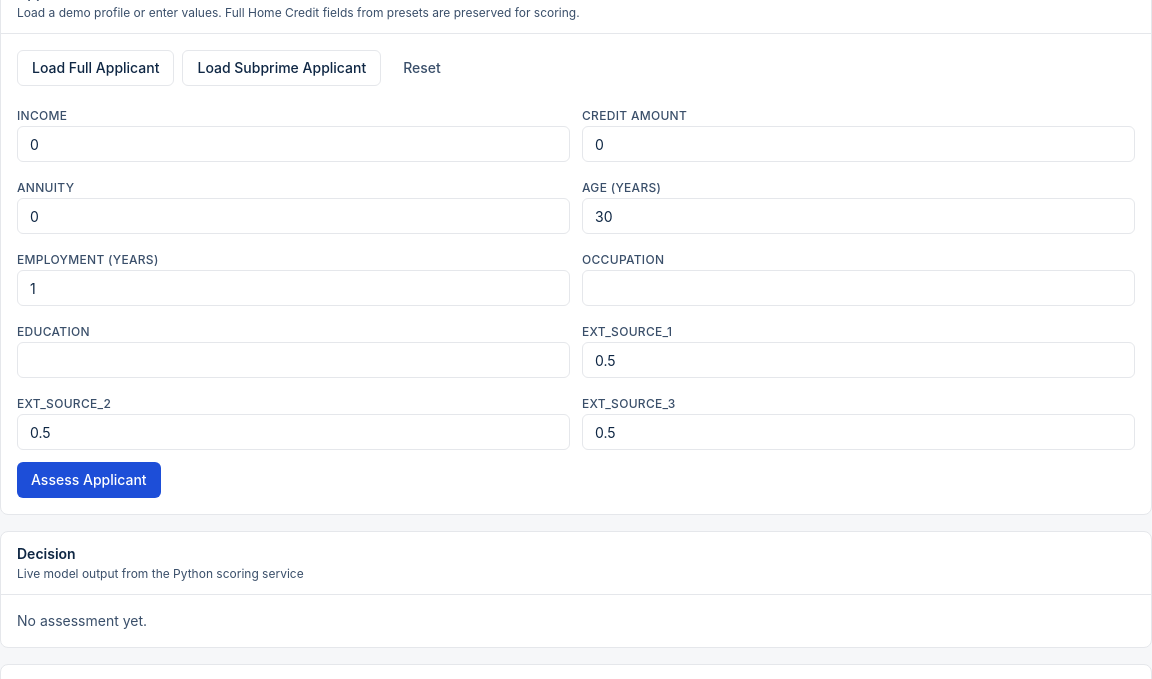
Test case: UnderwritingPage › shows scoring result after assessment
Click the button "Load Full Applicant". click: (96, 68)
box: [17,50,174,86]
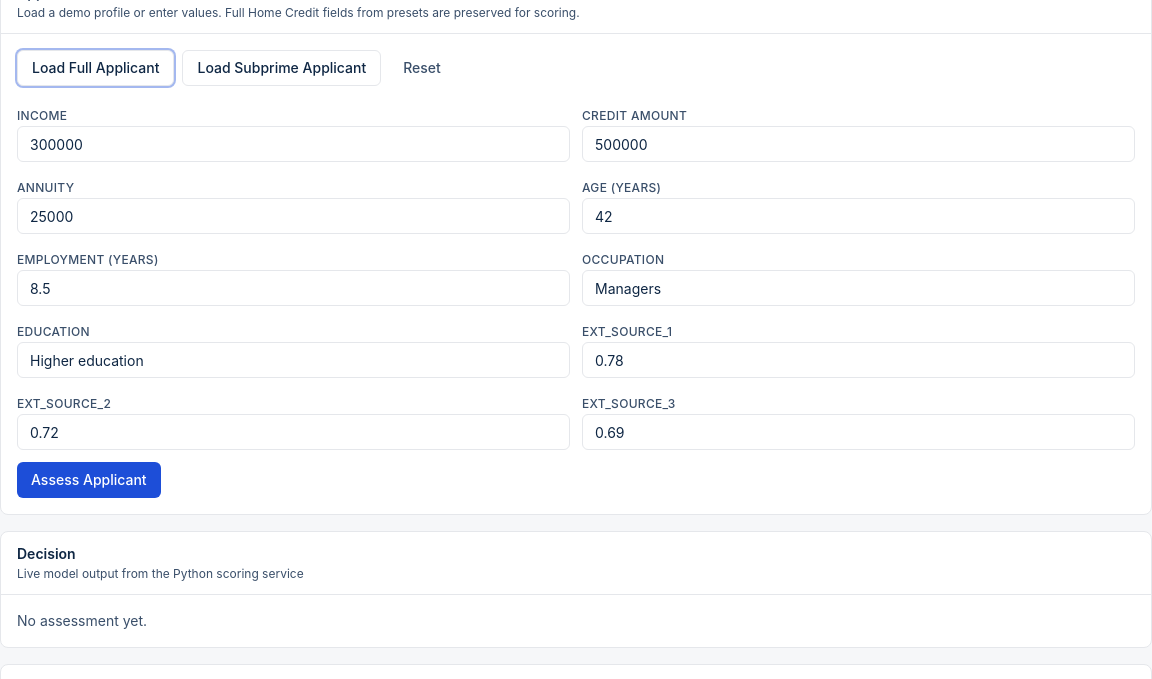
Click the button "Assess Applicant". click: (89, 480)
box: [17,462,161,498]
(page scrolled)
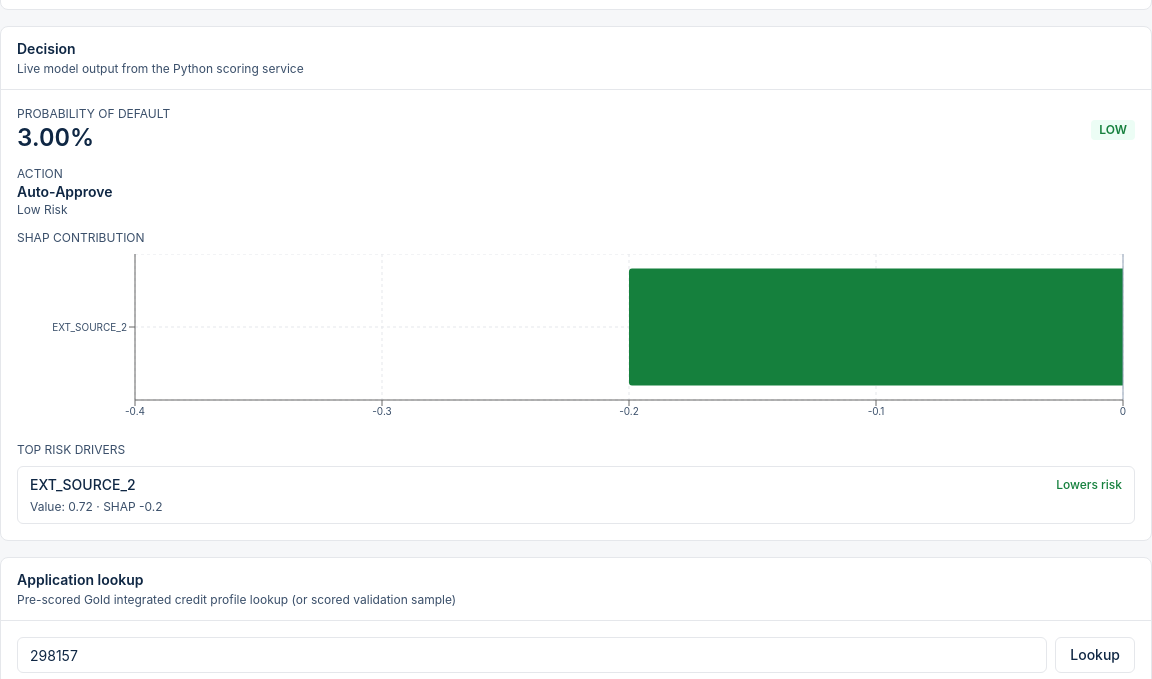
Check: the text "Auto-Approve" is shown, box [17,183,112,200]
Check: the text "Lowers risk" is shown, box [1056,477,1122,493]
